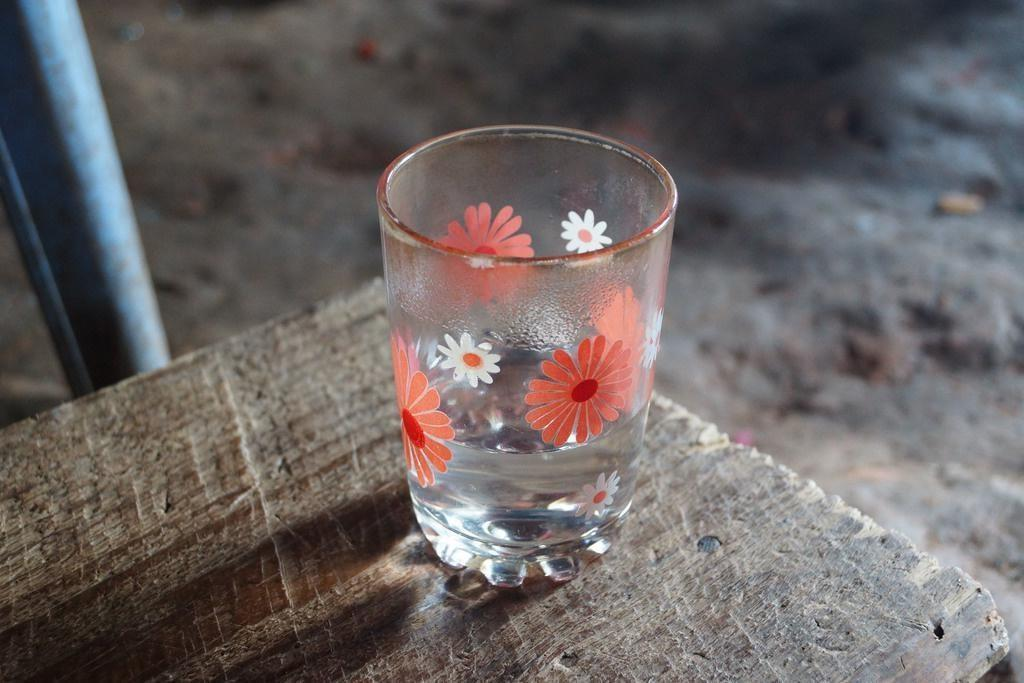glass-normal: (373, 120, 682, 594)
